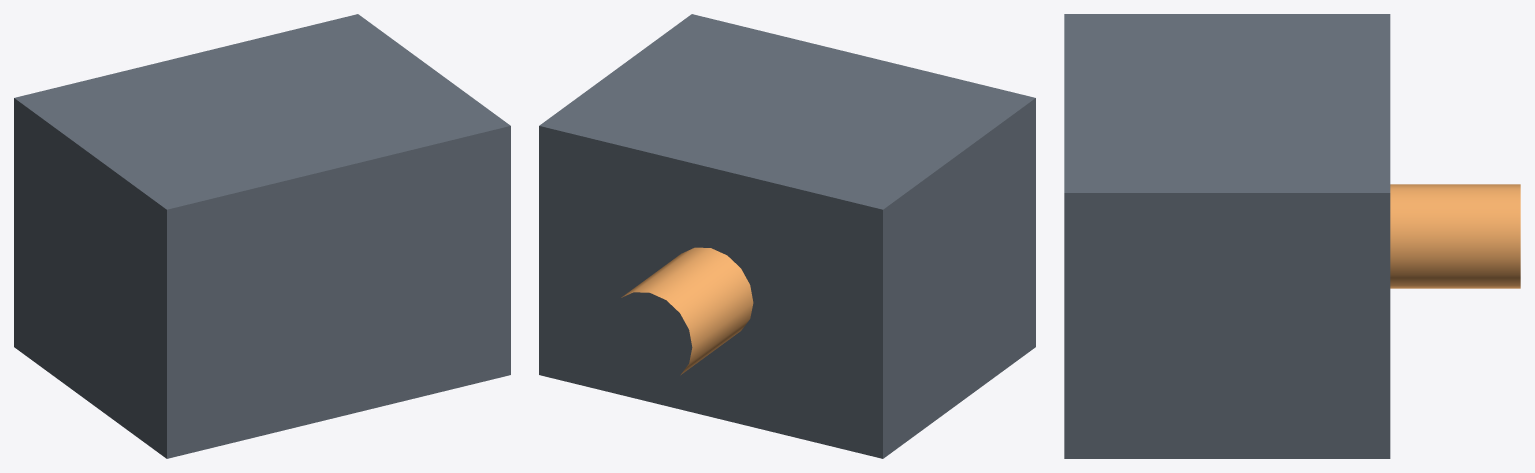
The model's file is color_tv_composite_video.glb.
The picture shows the model from 3 angles, left to right: view 1: azimuth 30°, elevation 25°; view 2: azimuth 150°, elevation 25°; view 3: azimuth 270°, elevation 25°; orthographic projection. The views are drawn at different scales.
Parts seen in each view (by area): view 1: ShadowMaskCRTPictureTube; view 2: ShadowMaskCRTPictureTube, ElectronGunTriadRGBAssembly; view 3: ShadowMaskCRTPictureTube, ElectronGunTriadRGBAssembly.
Boxes of the visible parts, x1,y1,x2,y2 form: ShadowMaskCRTPictureTube: (14, 14, 510, 458); ShadowMaskCRTPictureTube: (539, 14, 1035, 458); ElectronGunTriadRGBAssembly: (621, 247, 753, 375); ShadowMaskCRTPictureTube: (1064, 14, 1390, 458); ElectronGunTriadRGBAssembly: (1390, 184, 1520, 288).
Bounding box in the file's own units: 1.3 × 0.99 × 1.4.
